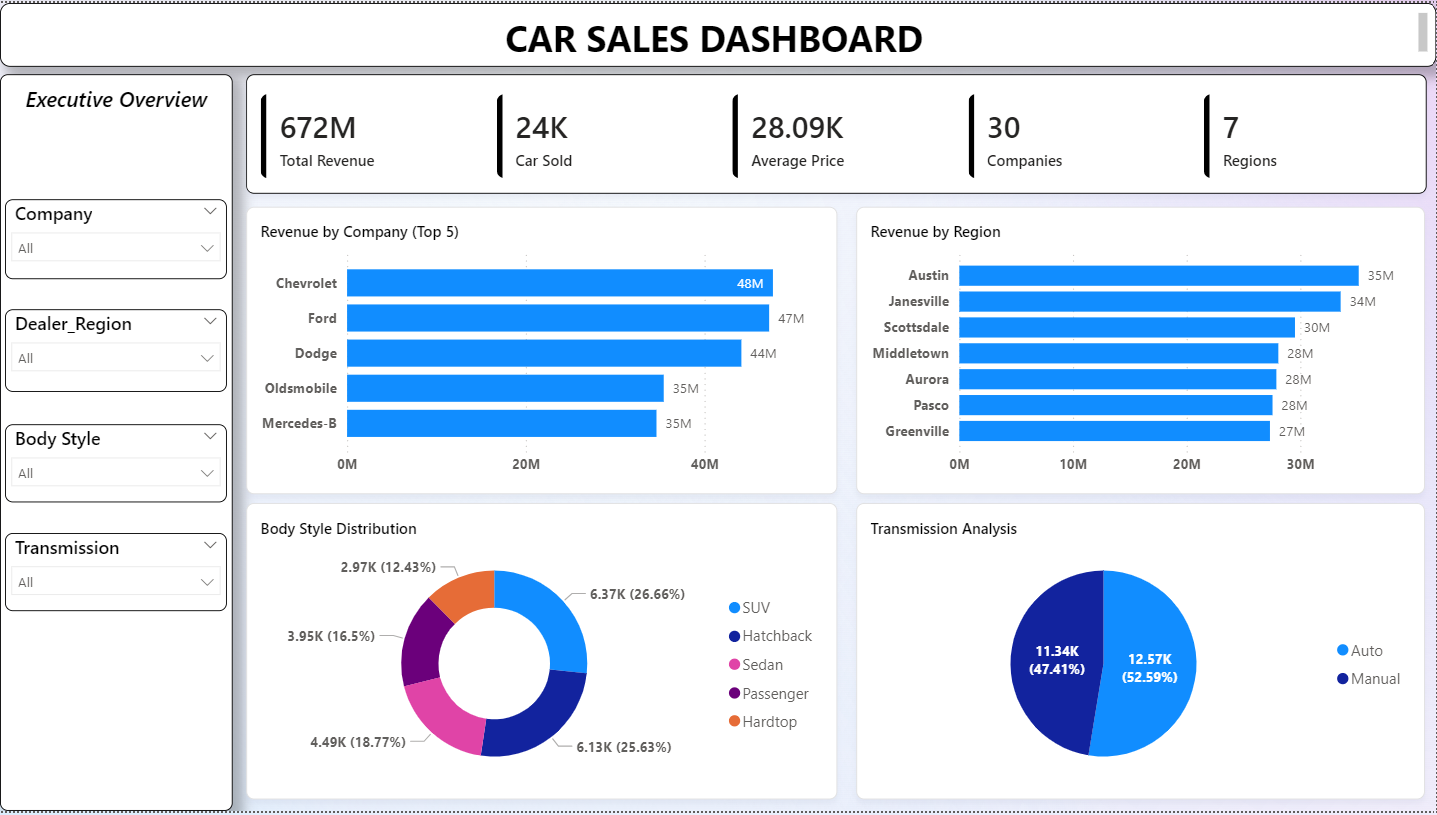

This screenshot's page, from the dashboard's own definition file:
{"tool":"powerbi","page":{"name":"Executive Overview","canvas":[1280,720],"ordinal":0},"visuals":[{"type":"textbox","box":[0,0,1280,56.7],"z":0},{"type":"textbox","box":[0,63.9,207.5,656.3],"z":1000},{"type":"cardVisual","fields":{"Data":["Car_sales.Total Revenue","Car_sales.Car Sold","Car_sales.Average Price","Car_sales.Companies","Car_sales.Regions"]},"box":[219.6,64,1050.8,106.2],"z":2000},{"type":"clusteredBarChart","title":"Revenue by Company (Top 5)","fields":{"Category":["Car_sales.Company"],"Y":["Sum(Car_sales.Price ($))"]},"box":[219.6,181,526,255.8],"z":3000},{"type":"slicer","title":"Revenue by Region","fields":{"Values":["Car_sales.Company"]},"box":[4.8,174.9,197.9,71.2],"z":4000},{"type":"donutChart","title":"Body Style Distribution","fields":{"Category":["Car_sales.Body Style"],"Y":["CountNonNull(Car_sales.Car_id)"]},"box":[219.6,445.2,526,264.2],"z":5000},{"type":"pieChart","title":"Transmission Analysis","fields":{"Y":["CountNonNull(Car_sales.Car_id)"],"Category":["Car_sales.Transmission"]},"box":[762.5,445.2,506.7,264.2],"z":6000},{"type":"slicer","title":"Revenue by Region","fields":{"Values":["Car_sales.Body Style"]},"box":[4.8,375.2,197.9,70],"z":7000},{"type":"slicer","title":"Revenue by Region","fields":{"Values":["Car_sales.Dealer_Region"]},"box":[4.8,272.7,197.9,73.6],"z":8000},{"type":"clusteredBarChart","title":"Revenue by Region","fields":{"Y":["Sum(Car_sales.Price ($))"],"Category":["Car_sales.Dealer_Region"]},"box":[762.5,181,506.7,255.8],"z":9000},{"type":"slicer","title":"Revenue by Region","fields":{"Values":["Car_sales.Transmission"]},"box":[4.8,471.7,197.9,70],"z":9001}]}

Visuals, with their boxes in screenshot pixels (x1, y1, x2, y2), scaled from the page's 1280x720 canvas onto the 1437x815 screenshot:
textbox: 0 0 1436 64
textbox: 0 72 233 814
cardVisual - Car_sales.Total Revenue x Car_sales.Car Sold: 247 72 1426 193
"Revenue by Company (Top 5)" clusteredBarChart: 247 205 837 494
"Revenue by Region" slicer: 5 198 228 279
"Body Style Distribution" donutChart: 247 504 837 803
"Transmission Analysis" pieChart: 856 504 1425 803
"Revenue by Region" slicer: 5 425 228 504
"Revenue by Region" slicer: 5 309 228 392
"Revenue by Region" clusteredBarChart: 856 205 1425 494
"Revenue by Region" slicer: 5 534 228 613
